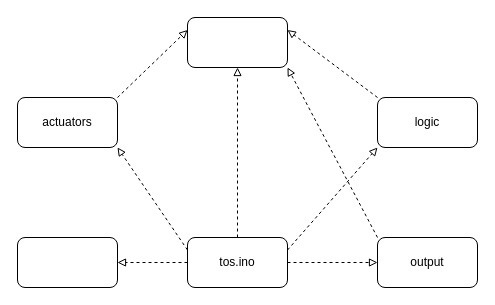
This 495x305 diagram has some shape labels left out. The shapes that lost their labels are listed below. From the top down, each one's centre as x and y in pixels, then its label:
At (237,42): "config".
At (67,262): "timer".
